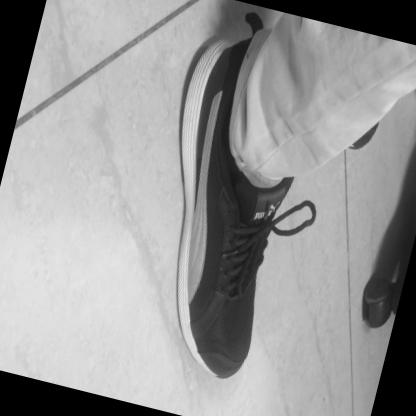ankle: (221, 145, 226, 150)
heel: (222, 51, 227, 57)
pinky: (206, 356, 210, 361)
right_foot: (122, 35, 320, 385)
toe: (247, 341, 250, 345)
